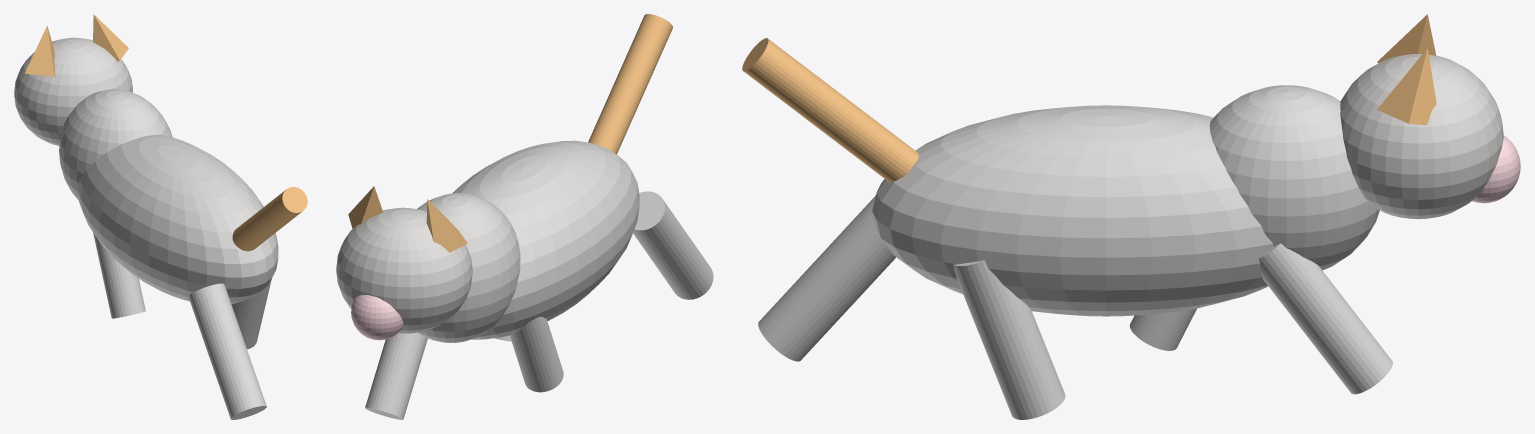
Rendered from companion_cat.glb.
3 renders of one model, left to right at view 1: azimuth 30°, elevation 25°; view 2: azimuth 150°, elevation 25°; view 3: azimuth 270°, elevation 25°, orthographic. The views are drawn at different scales.
Visible parts, largest first — view 1: Cat_Body_Torso, Cat_Head, Cat_Chest, Cat_Leg_Rear_L, Cat_Tail, Cat_Leg_Front_L, Cat_Leg_Rear_R, Cat_Ear_L, Cat_Ear_R; view 2: Cat_Body_Torso, Cat_Head, Cat_Chest, Cat_Leg_Rear_L, Cat_Tail, Cat_Leg_Front_R, Cat_Leg_Front_L, Cat_Snout, Cat_Ear_L, Cat_Ear_R; view 3: Cat_Body_Torso, Cat_Chest, Cat_Head, Cat_Leg_Rear_L, Cat_Leg_Rear_R, Cat_Leg_Front_R, Cat_Tail, Cat_Ear_R, Cat_Leg_Front_L, Cat_Snout, Cat_Ear_L.
Part boxes in pixels (x1,y1,x2,y2): Cat_Body_Torso: (77,134,278,303); Cat_Head: (14,37,132,145); Cat_Chest: (59,89,172,200); Cat_Leg_Rear_L: (188,283,266,419); Cat_Tail: (232,187,307,251); Cat_Leg_Front_L: (93,232,145,318); Cat_Leg_Rear_R: (231,279,271,349); Cat_Ear_L: (25,26,55,76); Cat_Ear_R: (93,14,128,61); Cat_Body_Torso: (452,140,639,339); Cat_Head: (336,207,472,333); Cat_Chest: (417,193,520,342); Cat_Leg_Rear_L: (633,191,713,299); Cat_Tail: (588,14,672,154); Cat_Leg_Front_R: (365,332,427,419); Cat_Leg_Front_L: (510,317,563,392); Cat_Snout: (351,295,403,340); Cat_Ear_L: (426,199,467,252); Cat_Ear_R: (348,186,382,228); Cat_Body_Torso: (872,105,1273,316); Cat_Chest: (1209,85,1379,270); Cat_Head: (1340,54,1503,219); Cat_Leg_Rear_L: (758,195,895,361); Cat_Leg_Rear_R: (953,260,1065,419); Cat_Leg_Front_R: (1259,243,1392,394); Cat_Tail: (742,38,918,182); Cat_Ear_R: (1377,48,1436,125); Cat_Leg_Front_L: (1130,308,1196,350); Cat_Snout: (1472,136,1520,203); Cat_Ear_L: (1377,14,1436,63).
Size of the model in its own units: 0.27 by 0.4773 by 0.9483.
